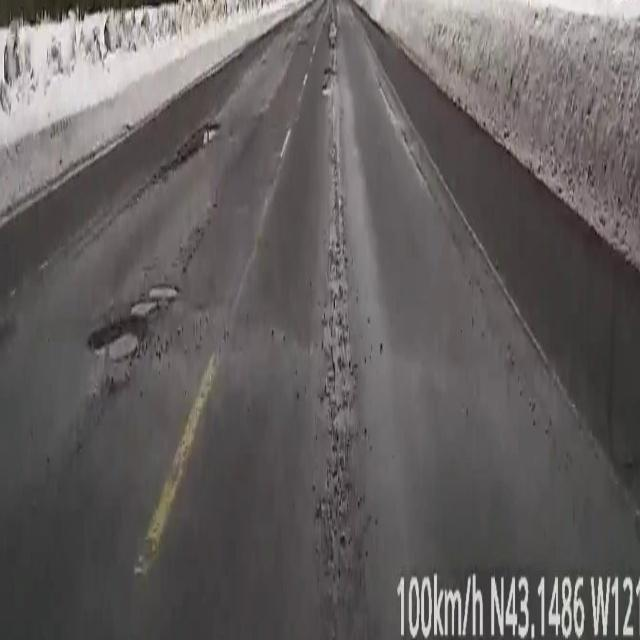pothole: (88, 281, 184, 360), (160, 118, 220, 172)
